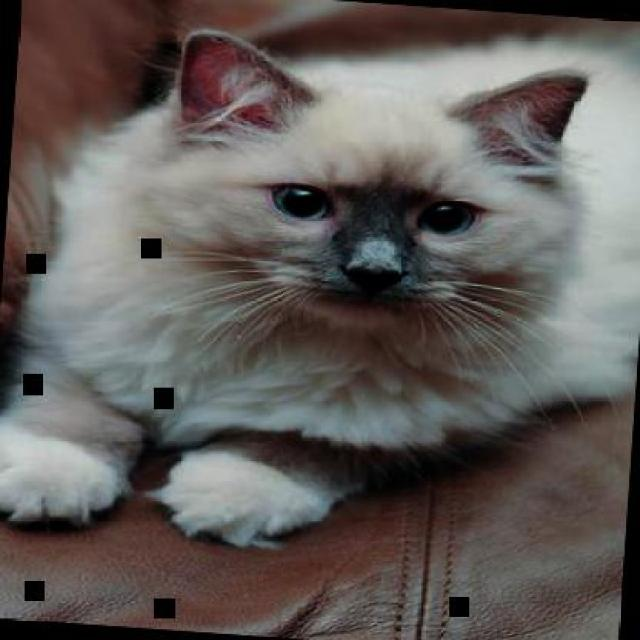cat: (0, 3, 638, 567)
